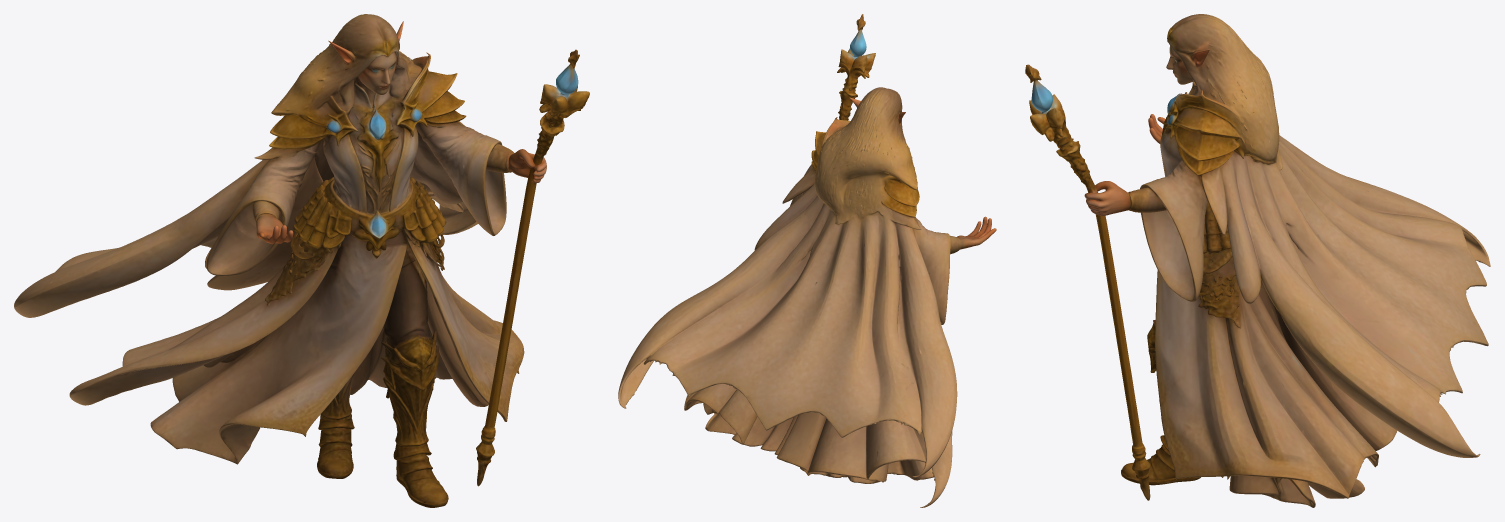
Rendered from elf_cleric_full_male_01.glb.
3 renders of one model, left to right at view 1: azimuth 30°, elevation 25°; view 2: azimuth 150°, elevation 25°; view 3: azimuth 270°, elevation 25°, orthographic. The views are drawn at different scales.
Parts seen in each view (by area): view 1: material; view 2: material; view 3: material.
Part boxes in pixels (x1,y1,x2,y2): material: (14, 14, 589, 507); material: (618, 14, 996, 507); material: (1025, 14, 1490, 507).
Size of the model in its own units: 0.7804 by 0.8203 by 0.7612.
1 material, 1 textured.
